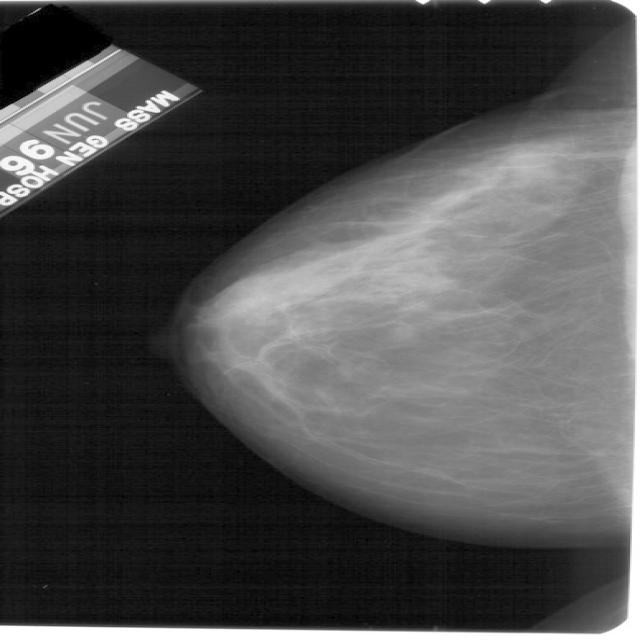tumour: (493, 148, 558, 179)
